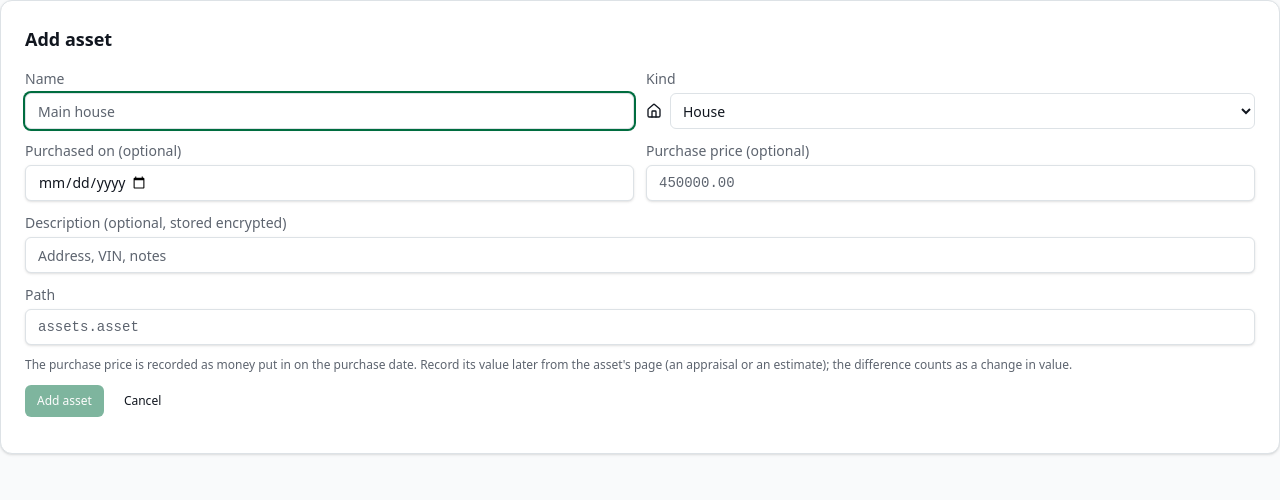
Scenario: AddAssetForm (#567) › refuses a price that is not an amount
Type "Ring" into the field named "Asset name".
click(330, 111); type("Ring")  # box [25,93,634,129]
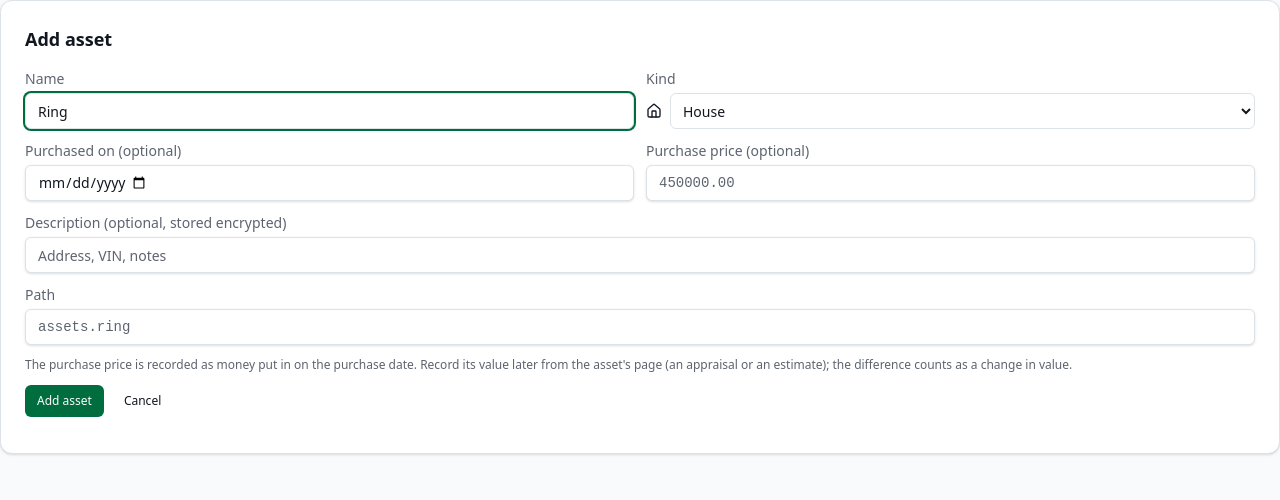
Type "a lot" into the field labelled "Purchase price".
click(950, 183); type("a lot")  # box [646,165,1255,201]
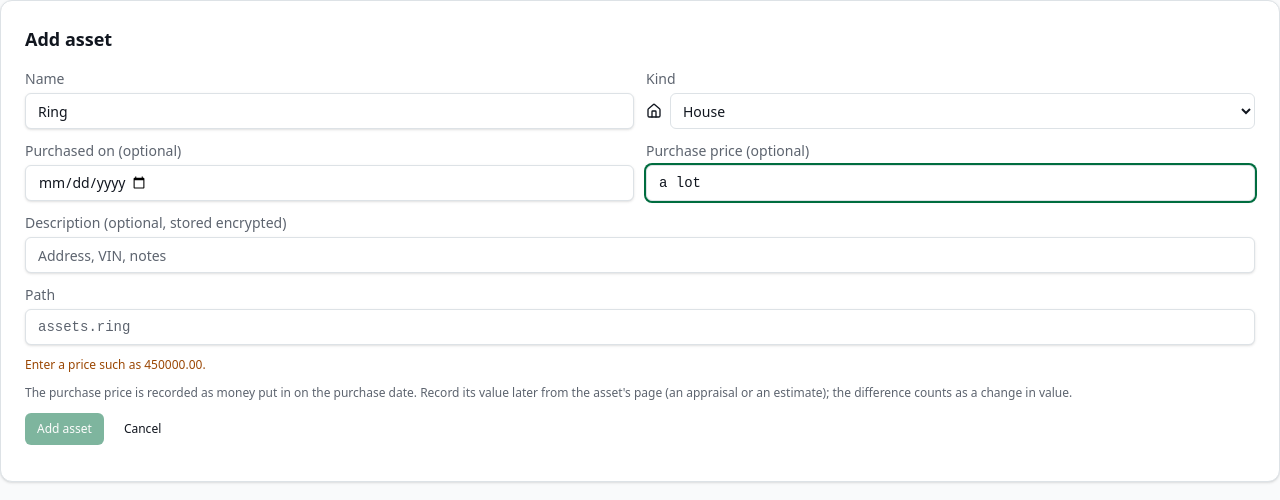
Now the button "Add asset" is disabled, box [25,413,104,445]
Now the text "Enter a price such as 450000.00." is shown, box [25,356,206,373]
